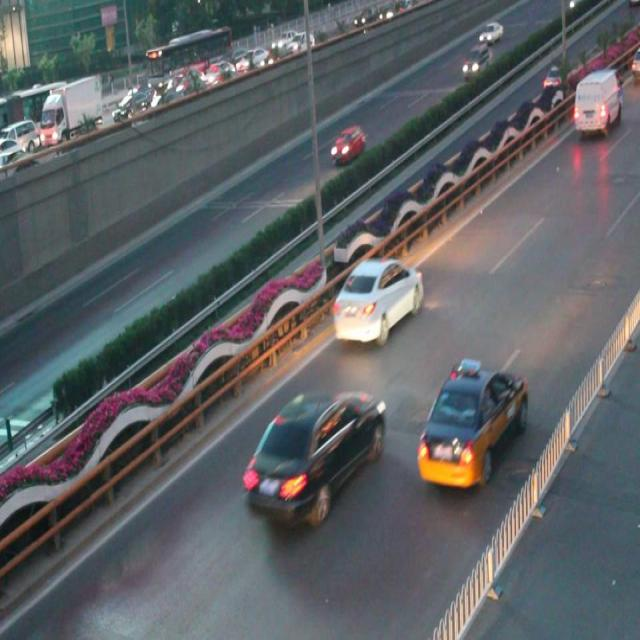car: (246, 386, 384, 522), (417, 353, 525, 488), (332, 259, 424, 345), (328, 124, 364, 162)
truck: (571, 70, 621, 136)
